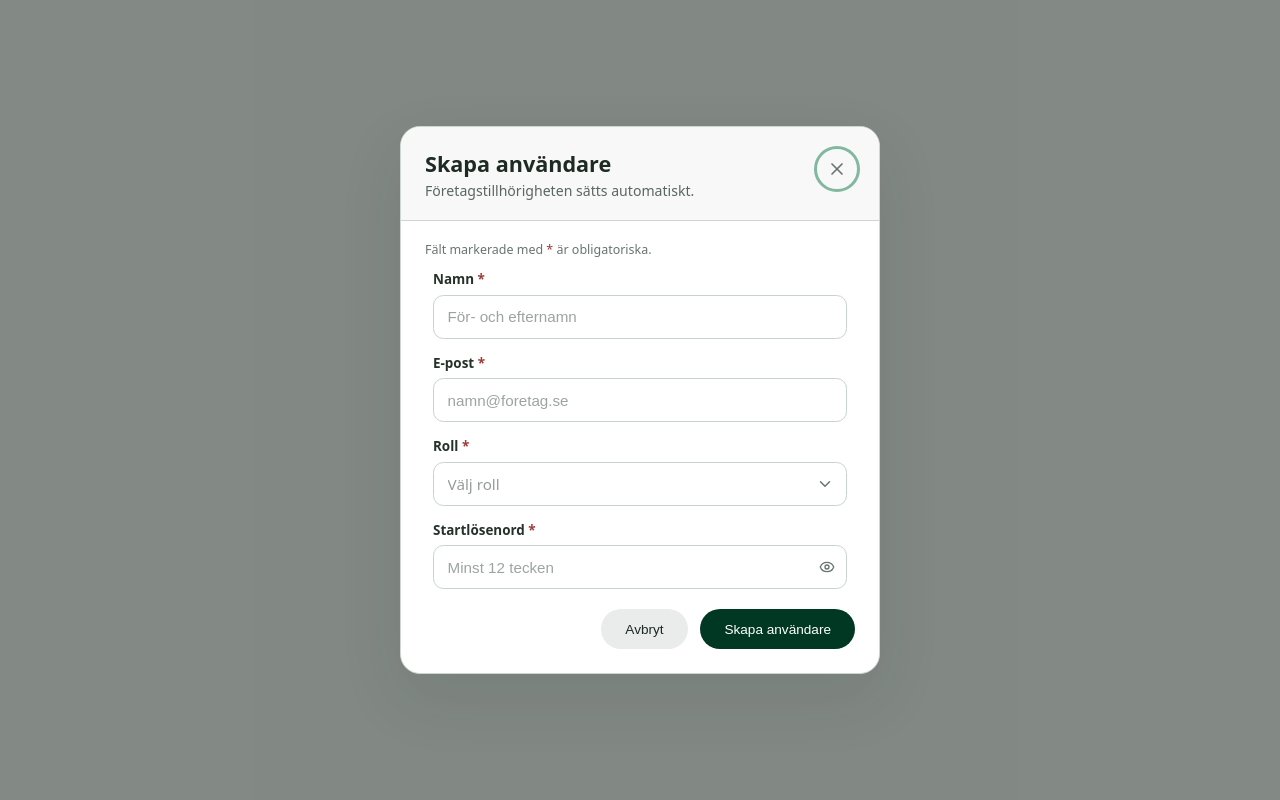
Test: CreateUserModal › rejects an invalid email format
In the field labelled "Namn *": [640, 317] box [433,295,847,339], type "Kalle Kula"
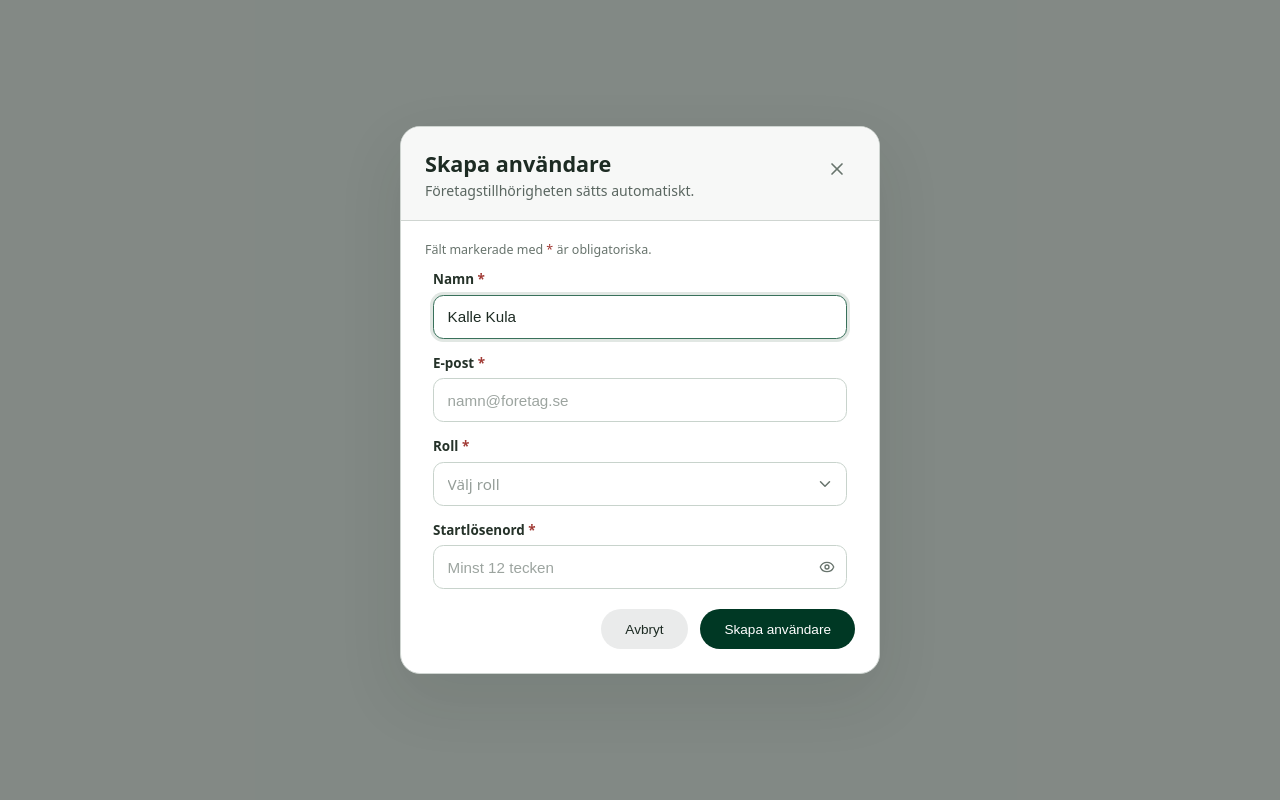
In the field labelled "E-post *": [640, 400] box [433,378,847,422], type "inte-en-epost"
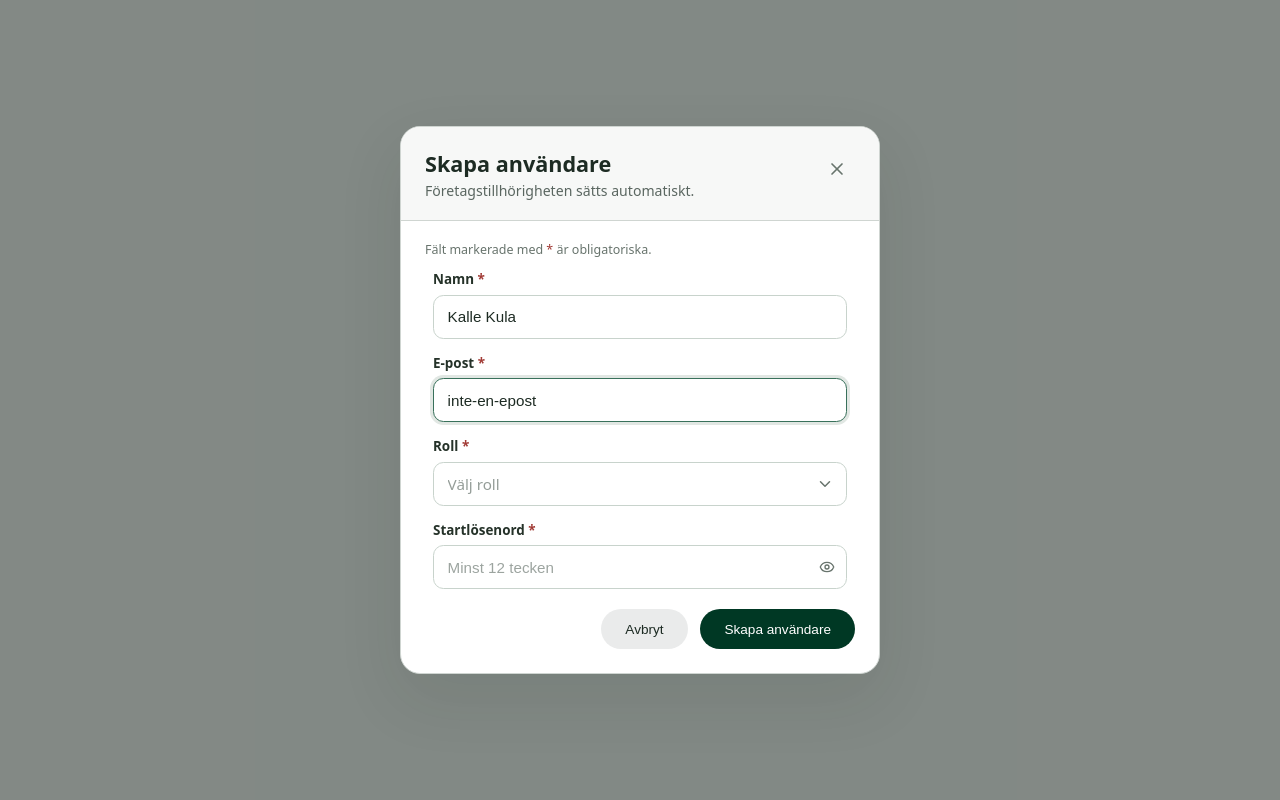
Click the dropdown labelled "Välj roll": [474, 484] box [433,462,847,506]
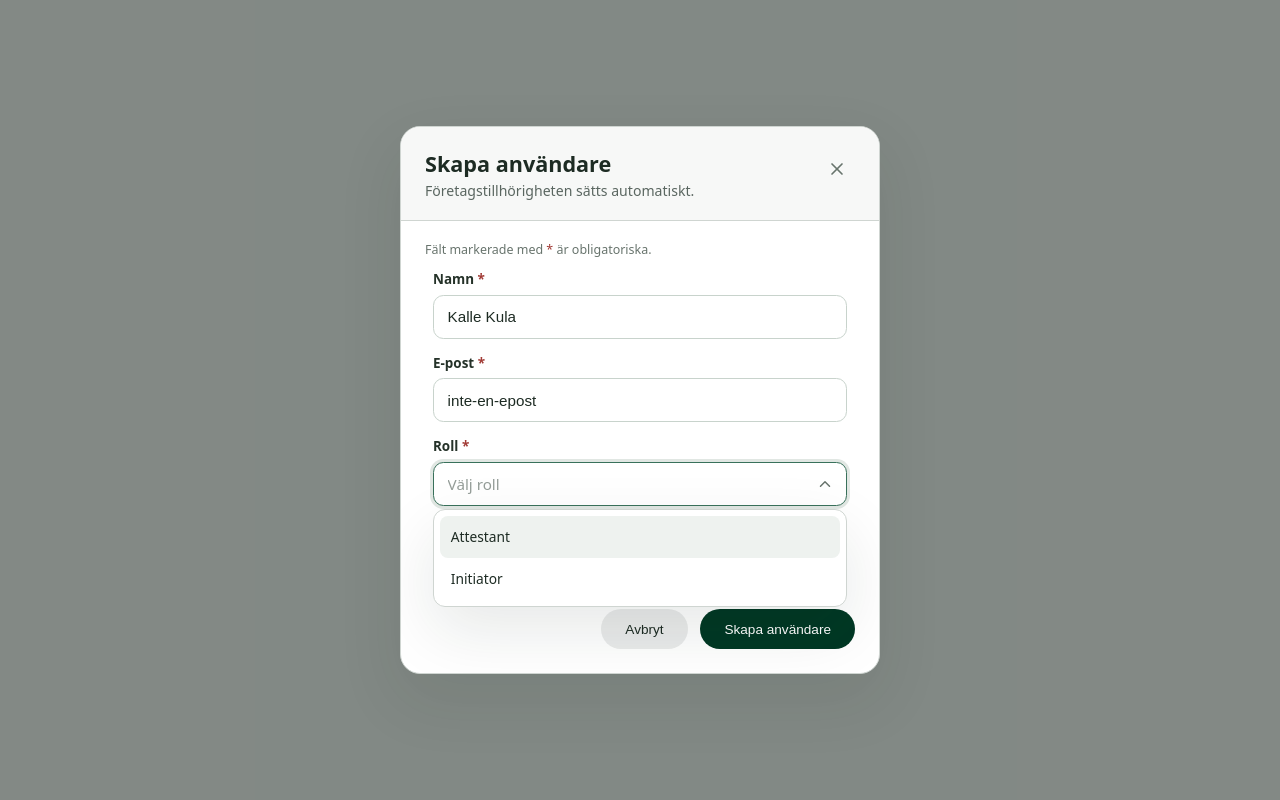
Click the option "Initiator": [477, 578] box [451,569,503,588]
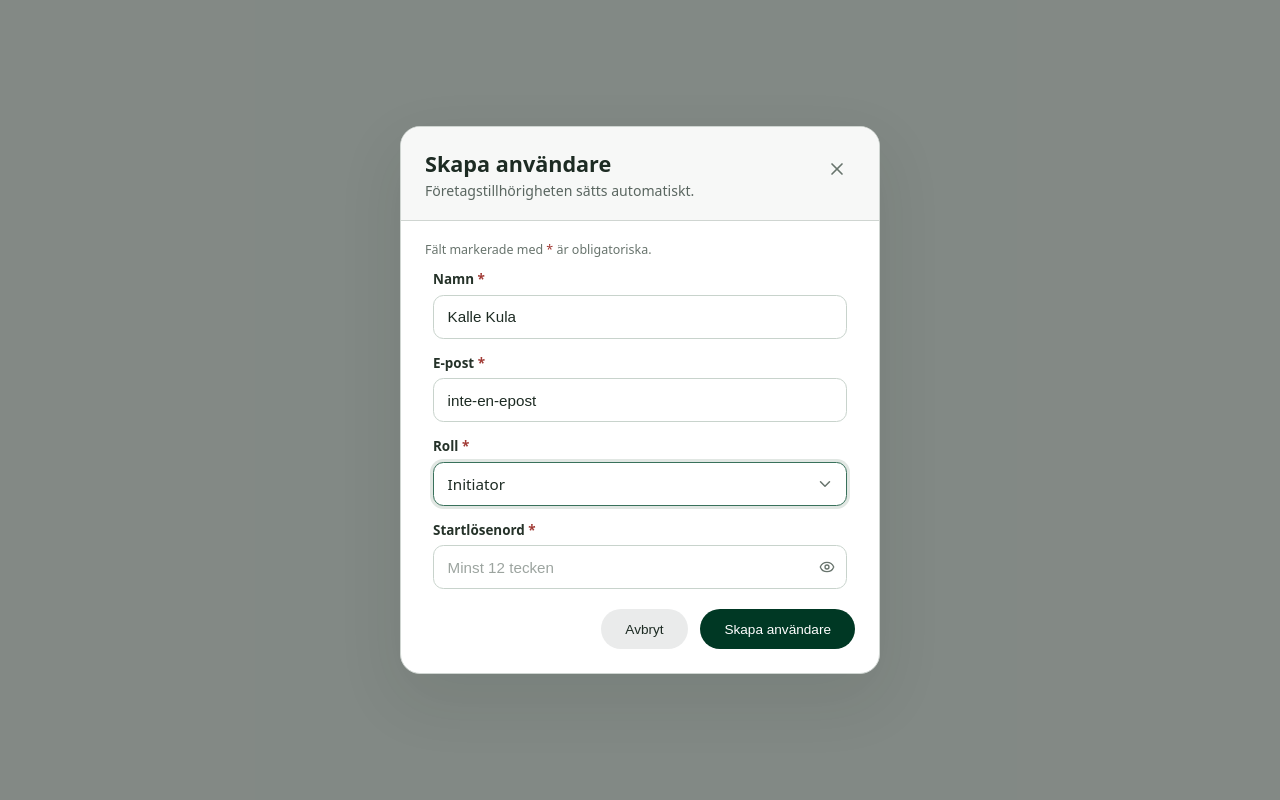
In the password field labelled "Startlösenord *": [640, 567] box [433,545,847,589], type "hemligt-lösen-123"
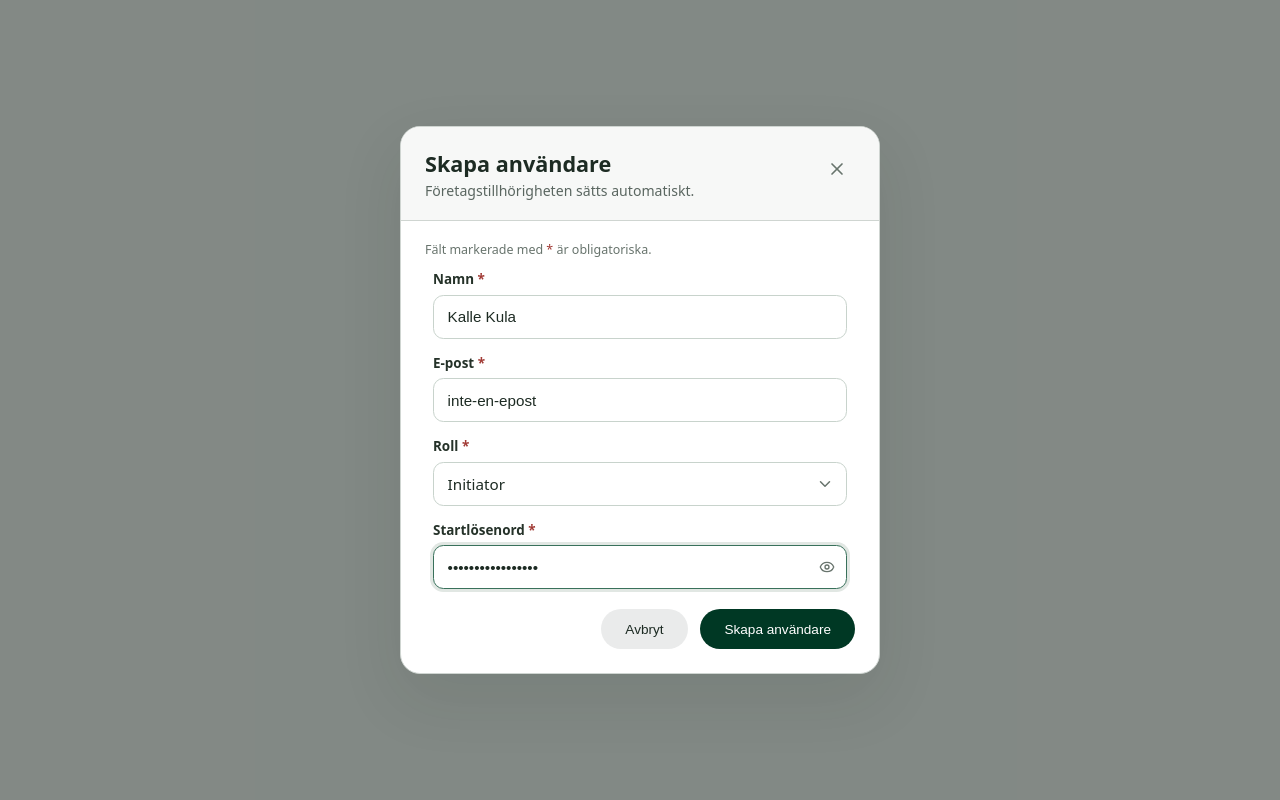
Click the button "Skapa användare": [778, 629] box [700,609,855,649]
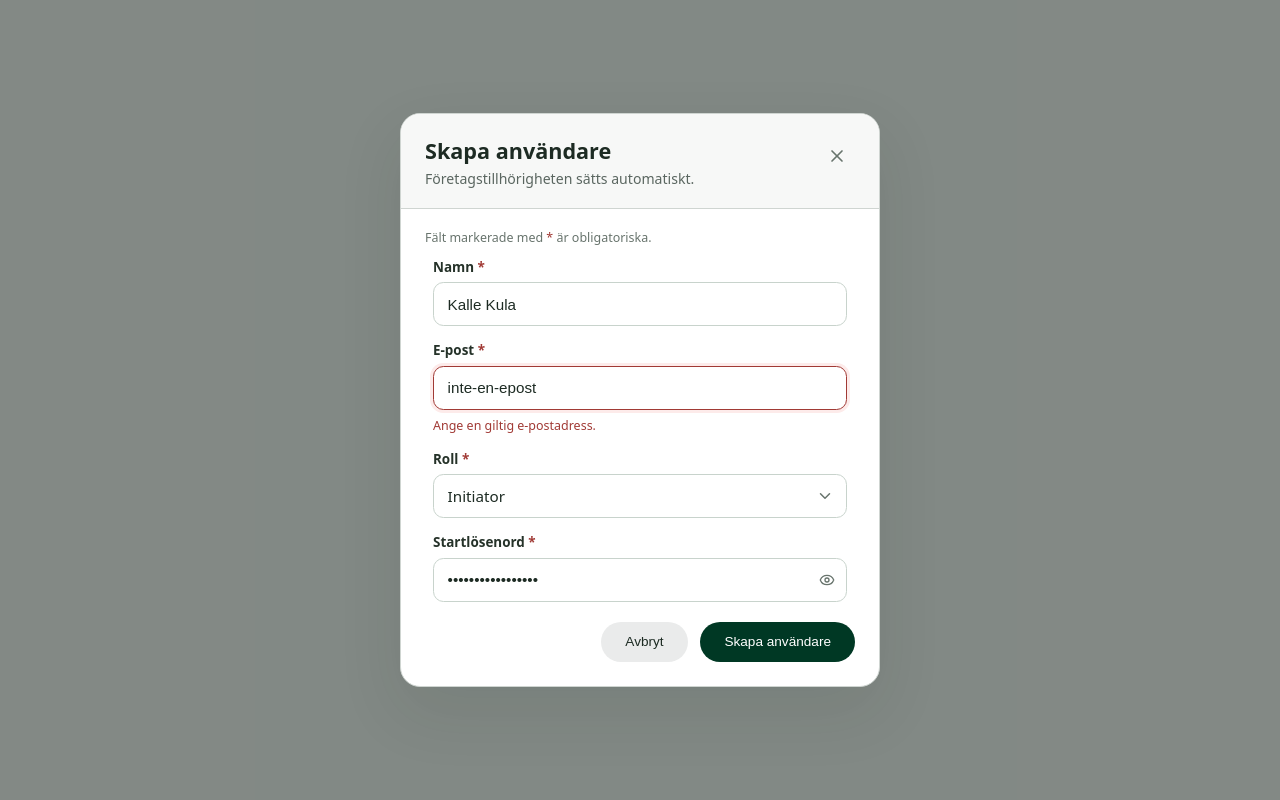
Expected: the text "Ange en giltig e-postadress." is shown, [433,417,596,434]
